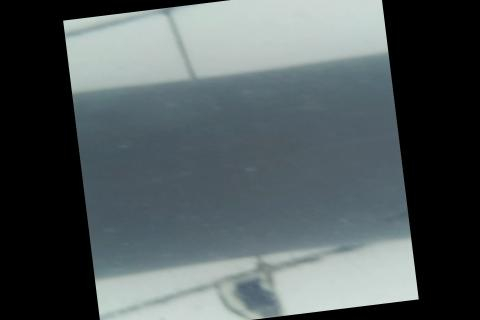keretakan: (389, 207, 408, 221)
